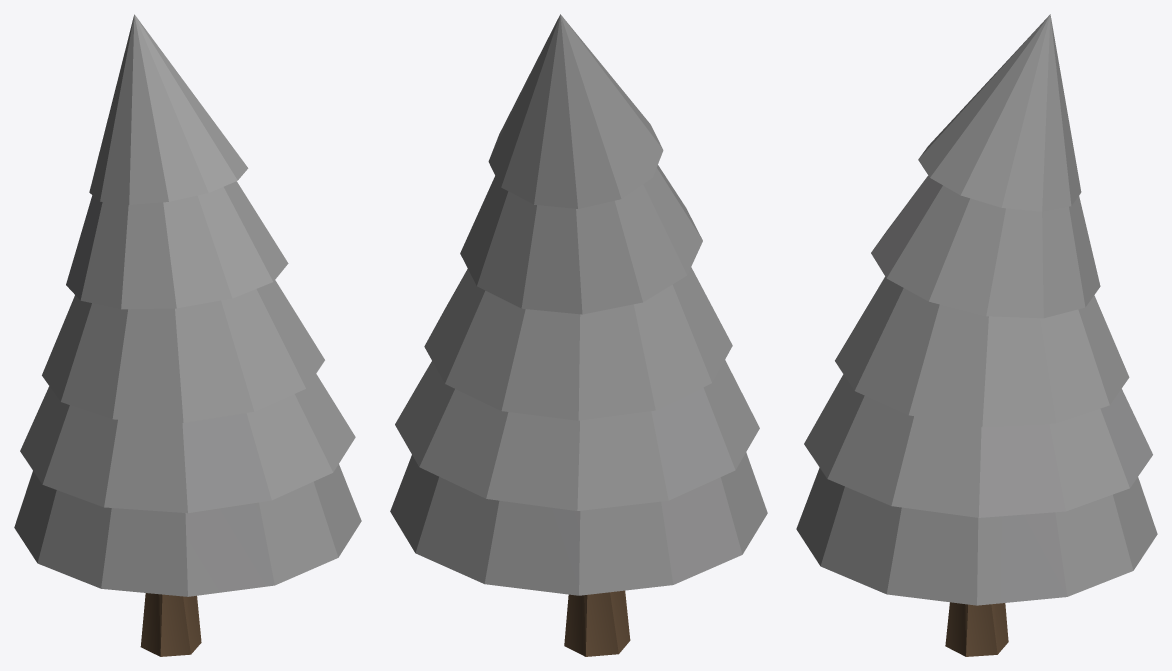
The model's file is tree_conifer_white_3.glb.
3 views of the same model, side by side, from view 1: azimuth 30°, elevation 25°; view 2: azimuth 150°, elevation 25°; view 3: azimuth 270°, elevation 25° (orthographic). The views are drawn at different scales.
Parts seen in each view (by area): view 1: Tree Onifer 3.165; view 2: Tree Onifer 3.165; view 3: Tree Onifer 3.165.
Part boxes in pixels (bbox=[...]): Tree Onifer 3.165: bbox=[14, 14, 361, 656]; Tree Onifer 3.165: bbox=[390, 14, 767, 656]; Tree Onifer 3.165: bbox=[796, 14, 1157, 656].
Bounding box in the file's own units: 0.1757 × 0.3379 × 0.1758.
